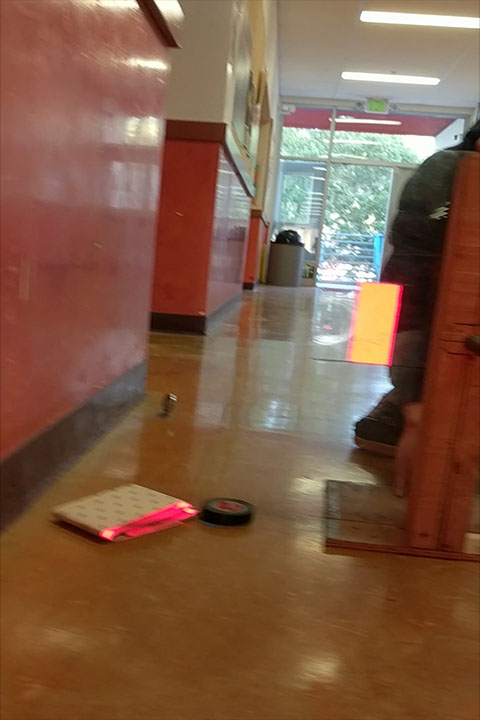gear: (345, 281, 402, 365)
